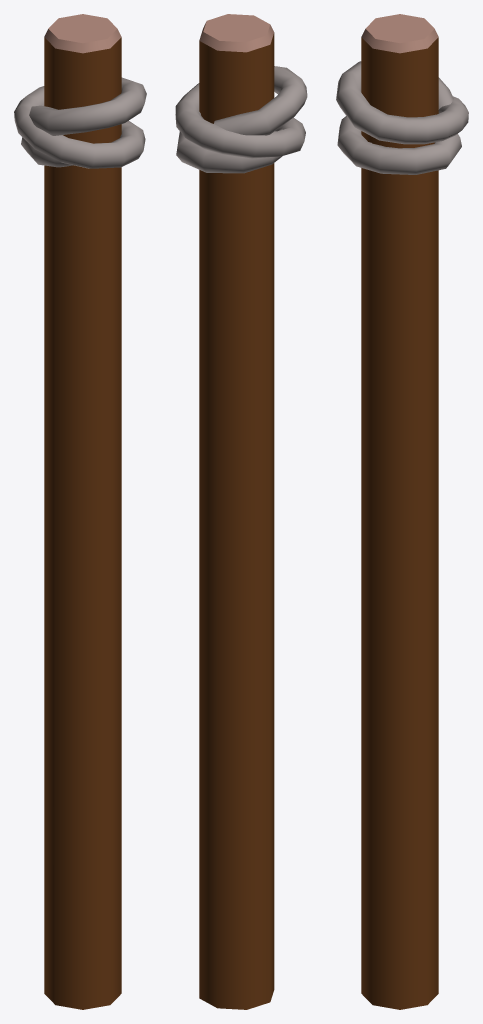
The model's file is Environment_Dock_Pole.glb.
The picture shows the model from 3 angles, left to right: view 1: azimuth 90°, elevation 25°; view 2: azimuth 150°, elevation 25°; view 3: azimuth 270°, elevation 25°; orthographic projection.
Parts seen in each view (by area): view 1: Environment_Dock_Pole; view 2: Environment_Dock_Pole; view 3: Environment_Dock_Pole.
Boxes of the visible parts, x1,y1,x2,y2 form: Environment_Dock_Pole: [14, 14, 146, 1009]; Environment_Dock_Pole: [175, 14, 307, 1009]; Environment_Dock_Pole: [336, 14, 468, 1009].
Bounding box in the file's own units: 0.3667 × 3.01 × 0.3759.
1 material, 1 textured.
